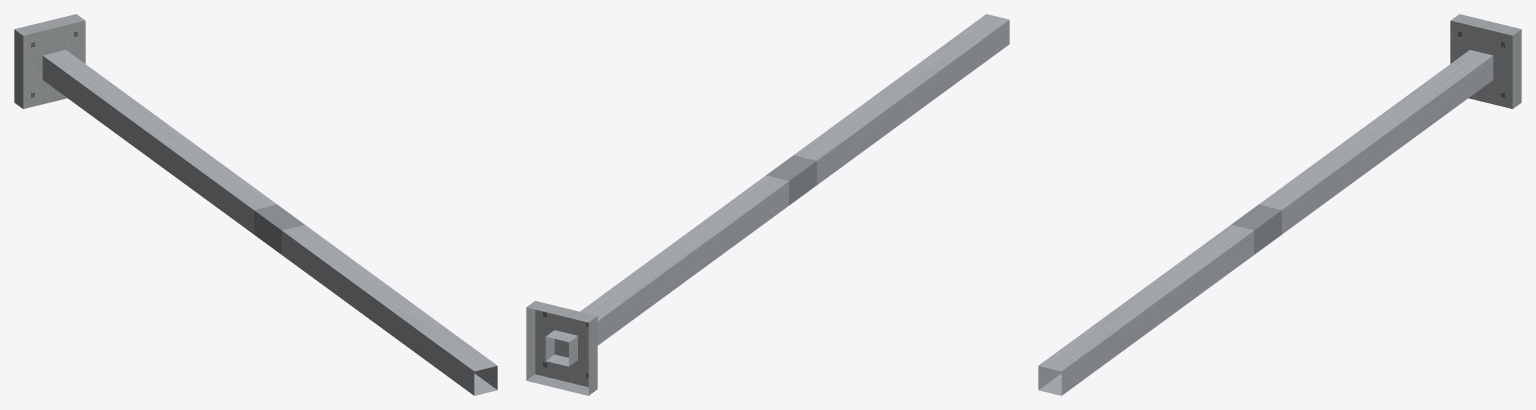
The model's file is opener_rail_3.obj.
3 renders of one model, left to right at view 1: azimuth 30°, elevation 25°; view 2: azimuth 150°, elevation 25°; view 3: azimuth 330°, elevation 25°, orthographic.
Parts seen in each view (by area): view 1: rail; view 2: rail; view 3: rail.
Boxes of the visible parts, box(x1,y1,x2,y2) form: rail: box(14, 14, 497, 395); rail: box(526, 14, 1009, 395); rail: box(1038, 14, 1521, 395).
Bounding box in the file's own units: 0.25 × 0.2812 × 3.06.
